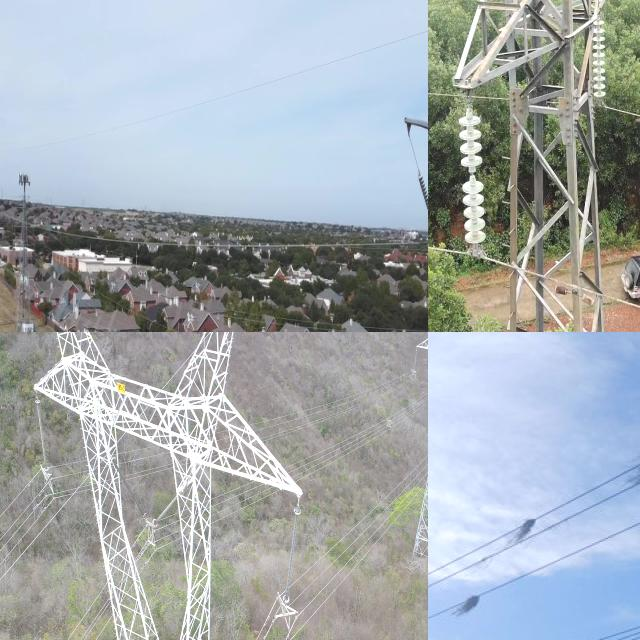杆塔: (33, 332, 301, 640), (447, 0, 626, 332), (13, 172, 37, 332)
植被遮挡: (502, 512, 545, 555), (448, 588, 491, 621), (621, 453, 640, 493)
正常电缆: (428, 243, 640, 322), (303, 484, 419, 613), (304, 471, 424, 594), (309, 453, 427, 573), (305, 506, 408, 631), (428, 82, 640, 127), (0, 493, 73, 591), (62, 588, 104, 640), (0, 491, 40, 542), (0, 473, 33, 526), (0, 509, 34, 555)
正常绝缘子: (453, 99, 488, 261), (274, 498, 308, 619), (28, 385, 56, 484), (590, 5, 610, 110), (413, 163, 428, 222), (411, 345, 419, 376)
绝缘子破损: (468, 167, 476, 181)
